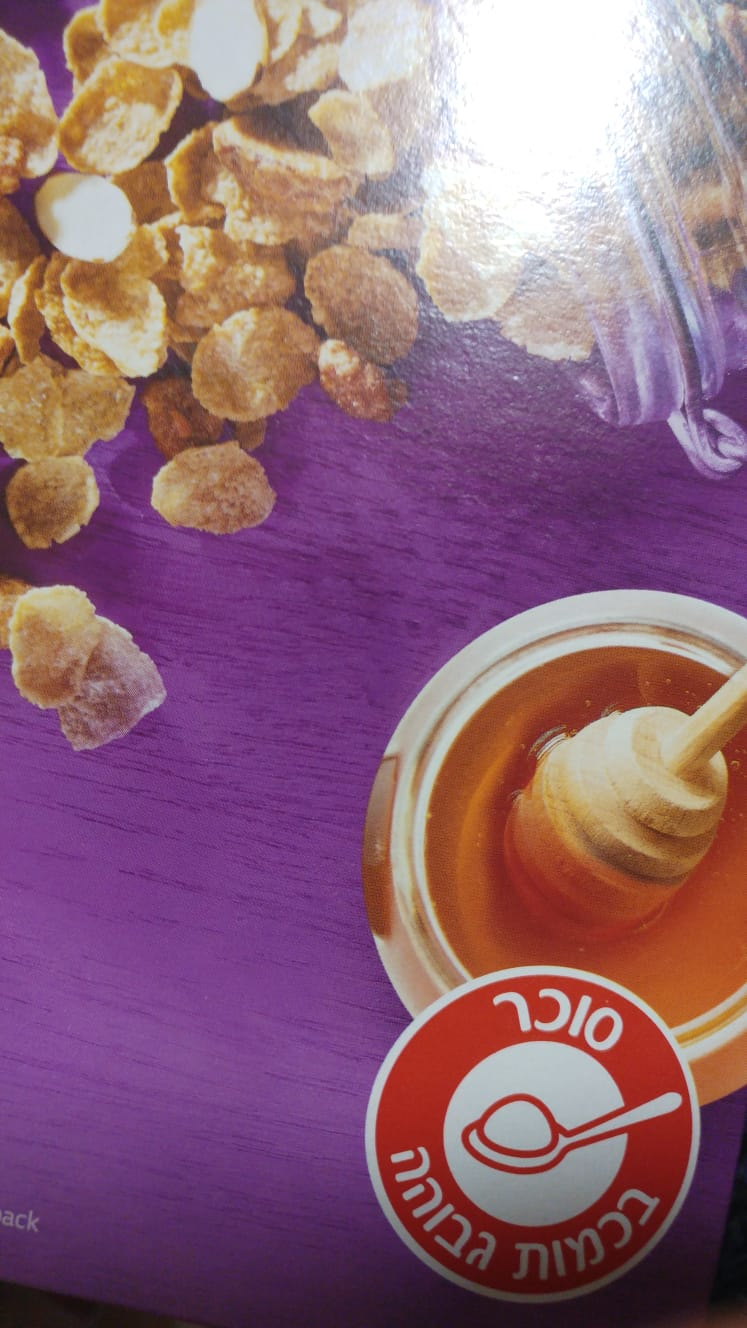sugar: (360, 966, 704, 1303)
